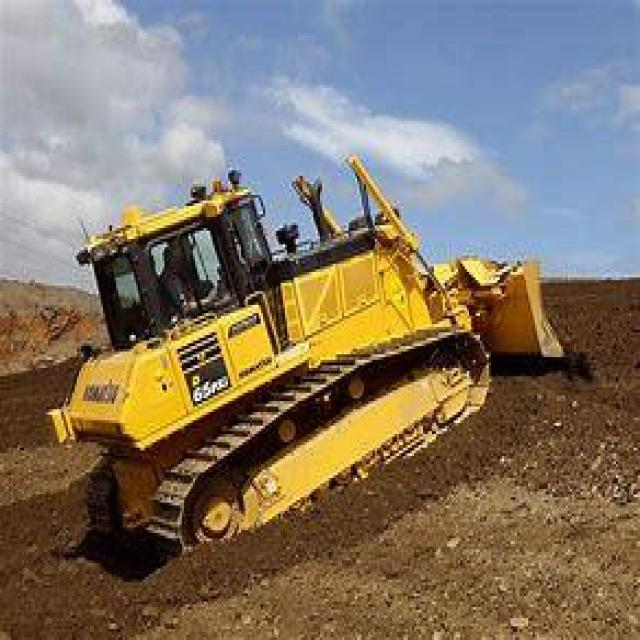buldozerpayloadergrader: (50, 143, 570, 571)
